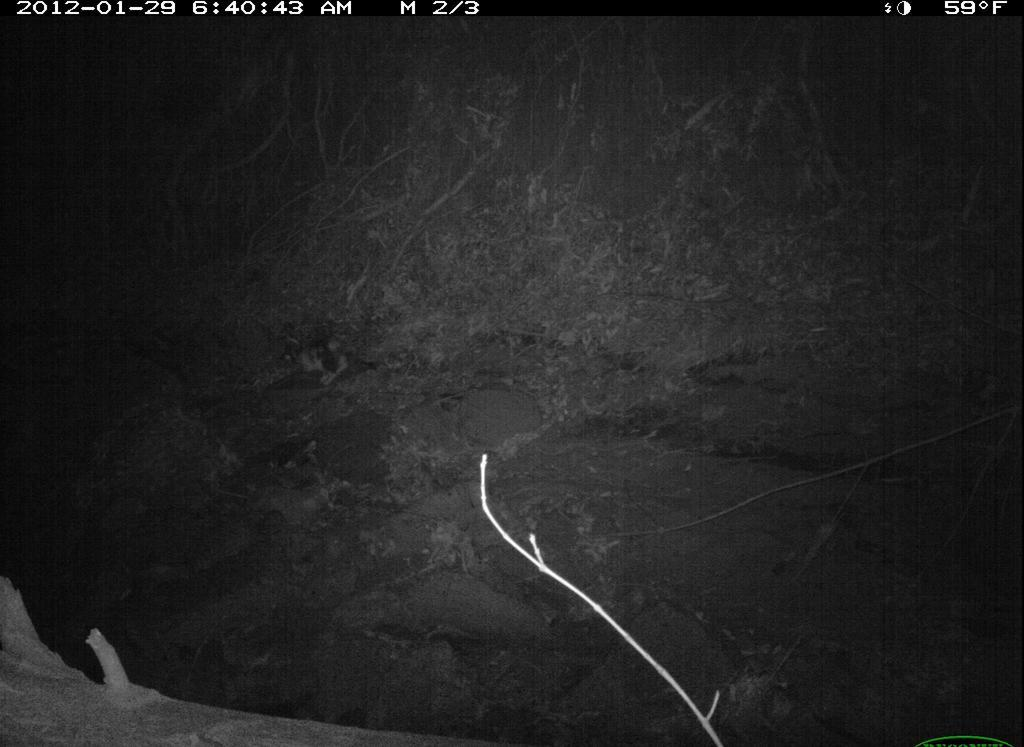cat: (275, 332, 380, 391)
